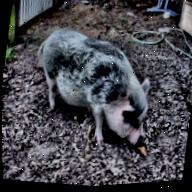boar: (24, 19, 160, 167)
